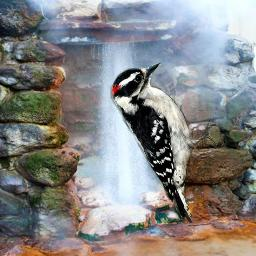Woodpecker: (110, 62, 227, 223)
